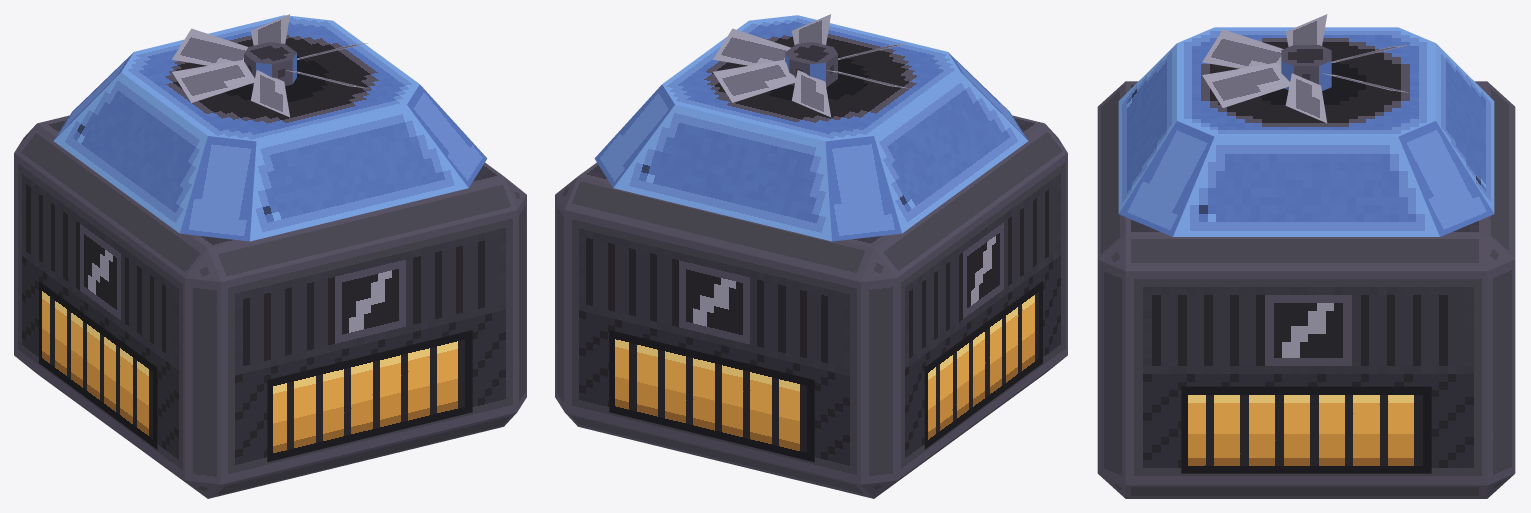
Rendered from generator.glb.
The picture shows the model from 3 angles, left to right: view 1: azimuth 30°, elevation 25°; view 2: azimuth 150°, elevation 25°; view 3: azimuth 270°, elevation 25°; orthographic projection. The views are drawn at different scales.
Parts seen in each view (by area): view 1: generator_body, generator_fire, generator_rotor; view 2: generator_body, generator_fire, generator_rotor; view 3: generator_body, generator_fire, generator_rotor.
Part boxes in pixels (x1,y1,x2,y2): generator_body: [14, 15, 526, 498]; generator_fire: [39, 281, 472, 462]; generator_rotor: [172, 14, 368, 117]; generator_body: [555, 15, 1067, 498]; generator_fire: [609, 281, 1042, 462]; generator_rotor: [713, 14, 909, 117]; generator_body: [1097, 27, 1515, 498]; generator_fire: [1181, 386, 1431, 473]; generator_rotor: [1202, 14, 1409, 123].
Size of the model in its own units: 1.01 by 0.97 by 1.01.
Materials: 1 (1 with a texture image).
